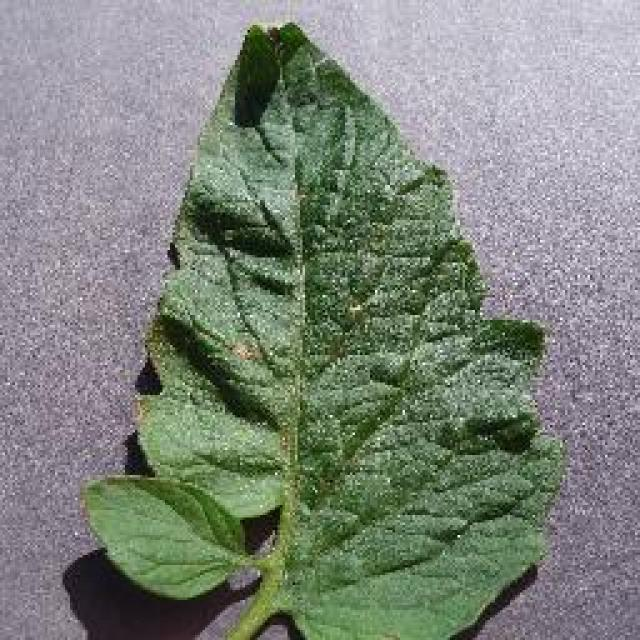Tomato Septoria spot leaf: (90, 17, 557, 640)
